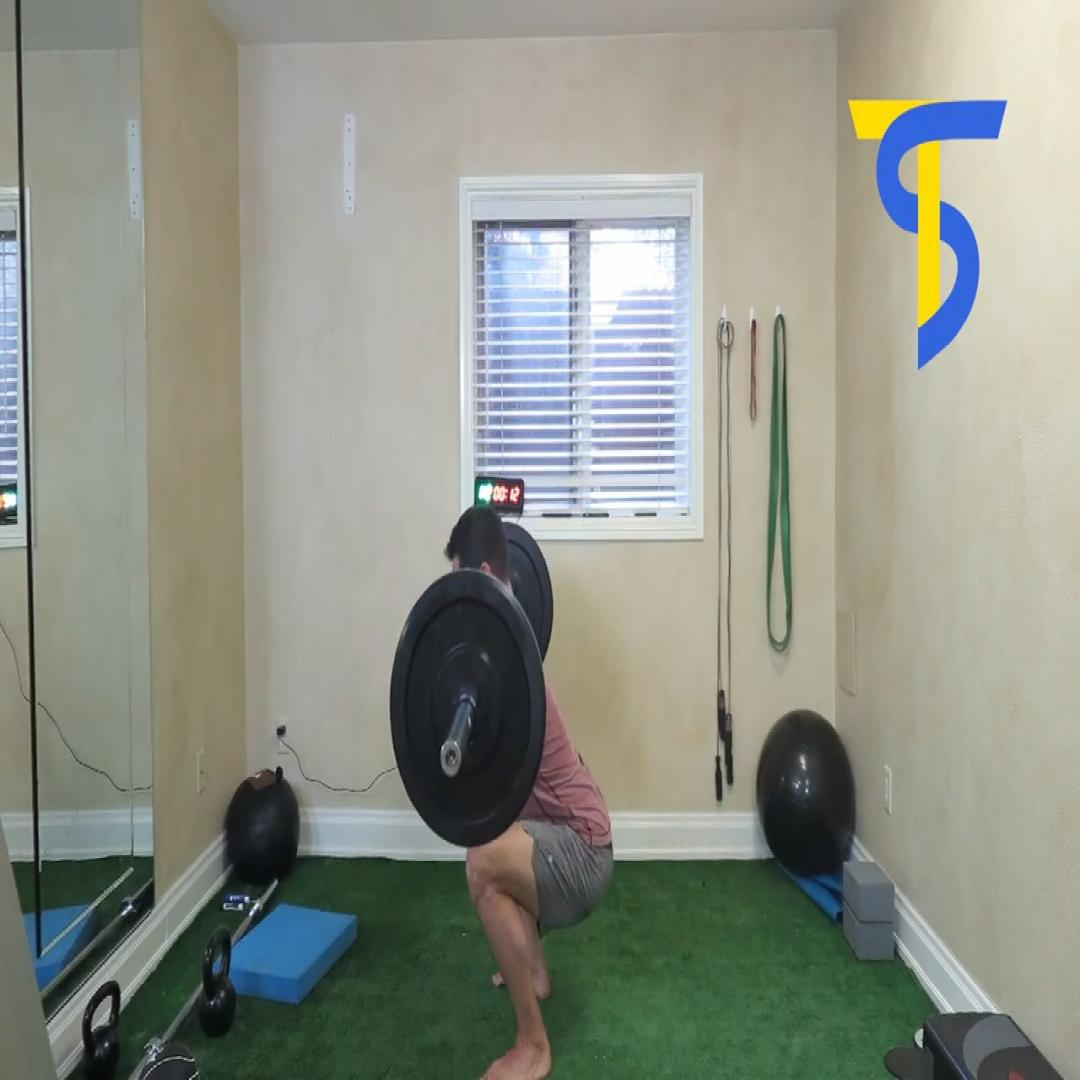Bar: (440, 738, 462, 777)
Barbell: (389, 569, 547, 848)
